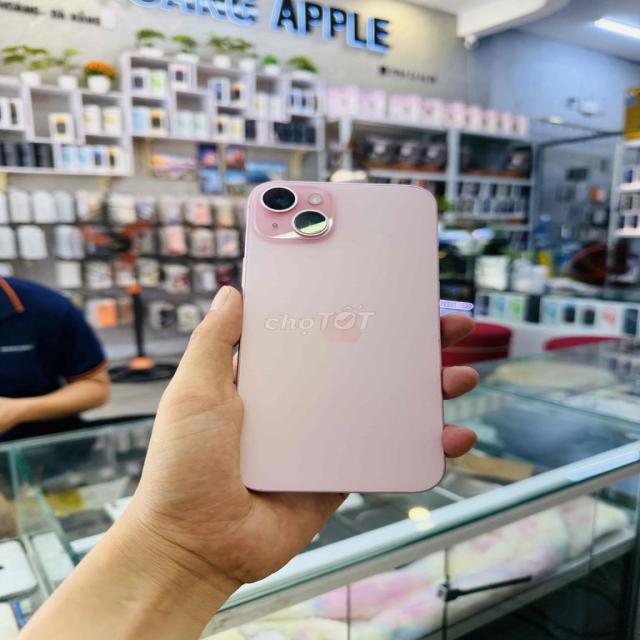gen_15: (227, 170, 452, 507)
